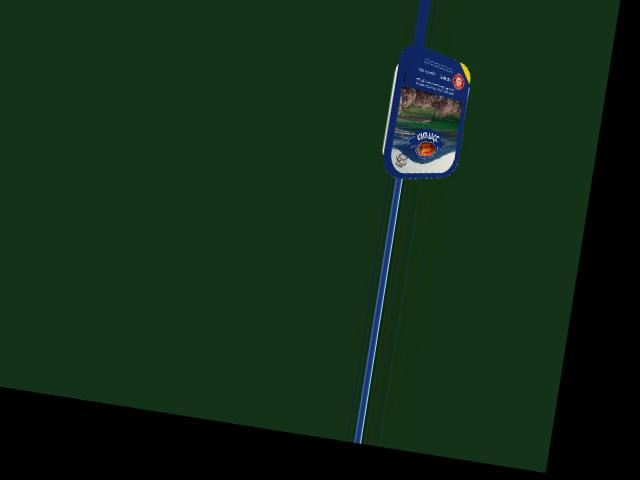cheese: (370, 55, 476, 178)
